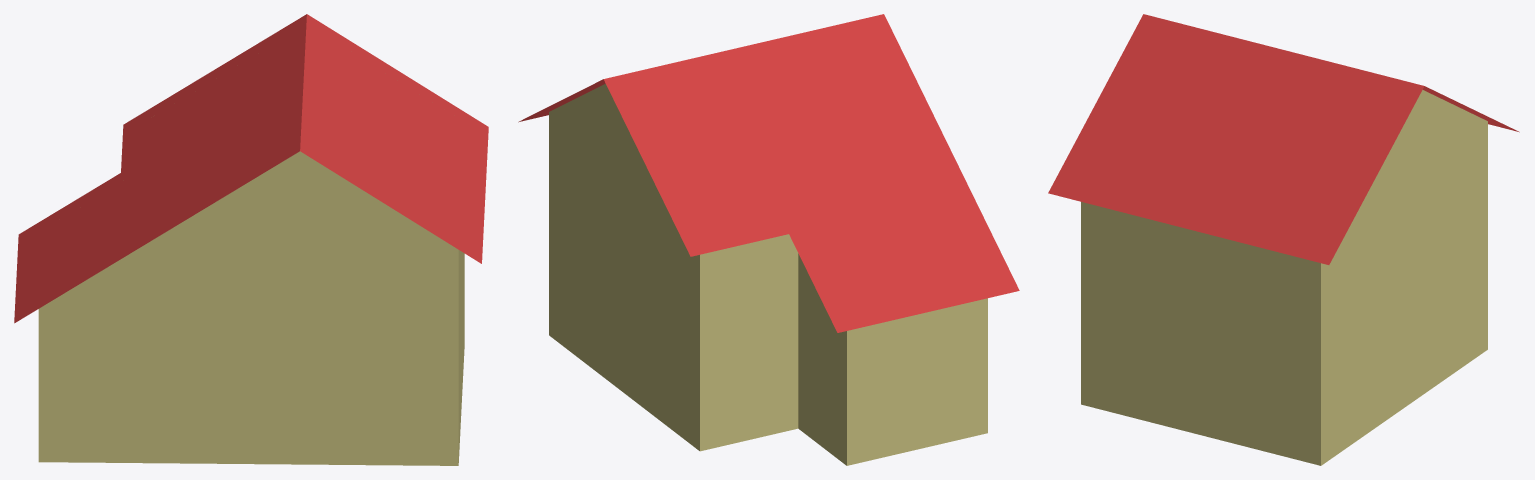
3 renders of one model, left to right at view 1: azimuth 30°, elevation 25°; view 2: azimuth 150°, elevation 25°; view 3: azimuth 270°, elevation 25°, orthographic. The views are drawn at different scales.
Size of the model in its own units: 17.91 by 14.72 by 11.24.
